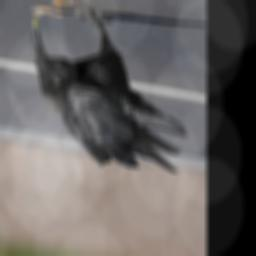Crow: (32, 9, 189, 173)
